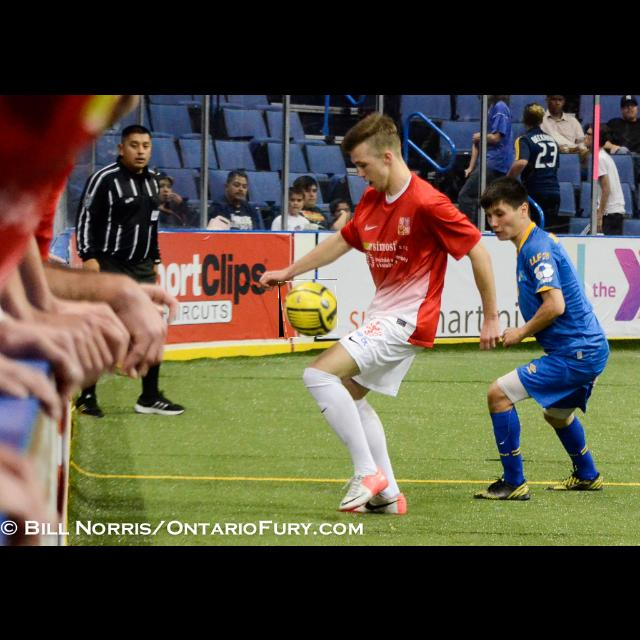Football: (279, 279, 337, 337)
